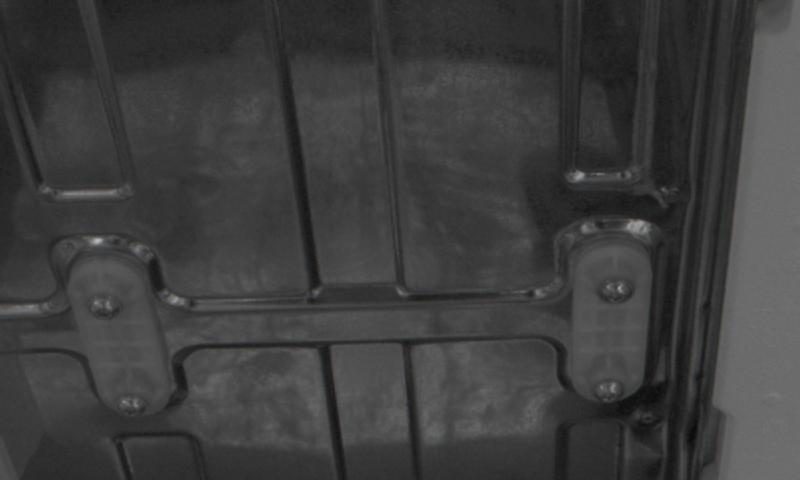vida-ok: (598, 269, 641, 314), (87, 285, 127, 330), (112, 385, 155, 425), (588, 370, 628, 408)
